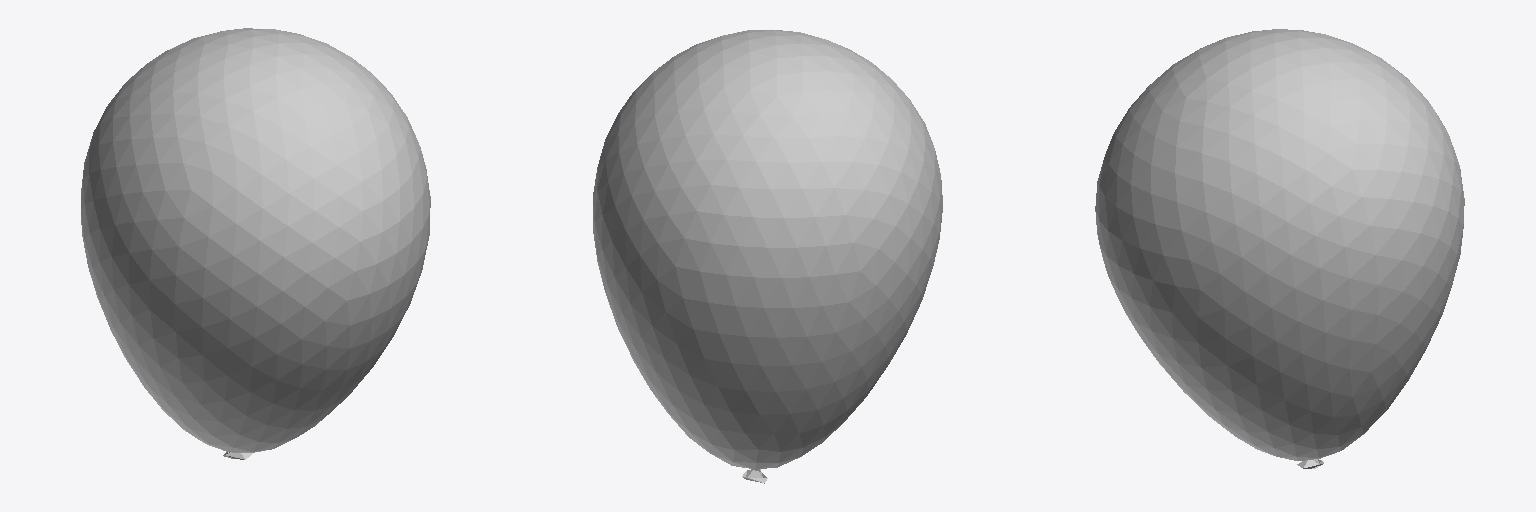
The model's file is ballon1.obj.
The picture shows the model from 3 angles: view 1: azimuth 30°, elevation 25°; view 2: azimuth 150°, elevation 25°; view 3: azimuth 270°, elevation 25°; orthographic projection.
Parts seen in each view (by area): view 1: GeoSphere01_1; view 2: GeoSphere01_1; view 3: GeoSphere01_1.
Boxes of the visible parts, x1=… form: GeoSphere01_1: x1=81, y1=28, x2=430, y2=459; GeoSphere01_1: x1=593, y1=30, x2=942, y2=483; GeoSphere01_1: x1=1095, y1=29, x2=1464, y2=468.
Bounding box in the file's own units: 98.43 × 133 × 105.